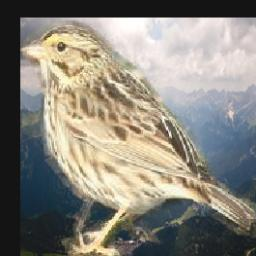Sparrow: (21, 21, 256, 256)
